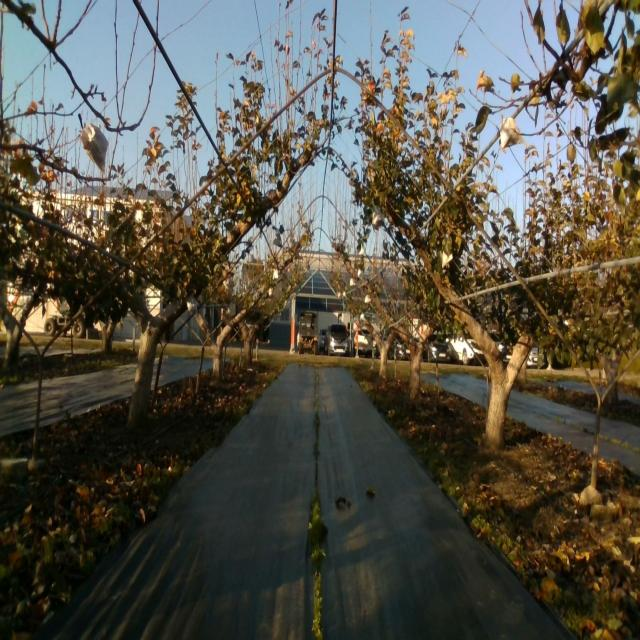pearbags: (79, 124, 108, 174), (499, 114, 524, 149), (371, 204, 386, 226), (187, 295, 197, 312)
